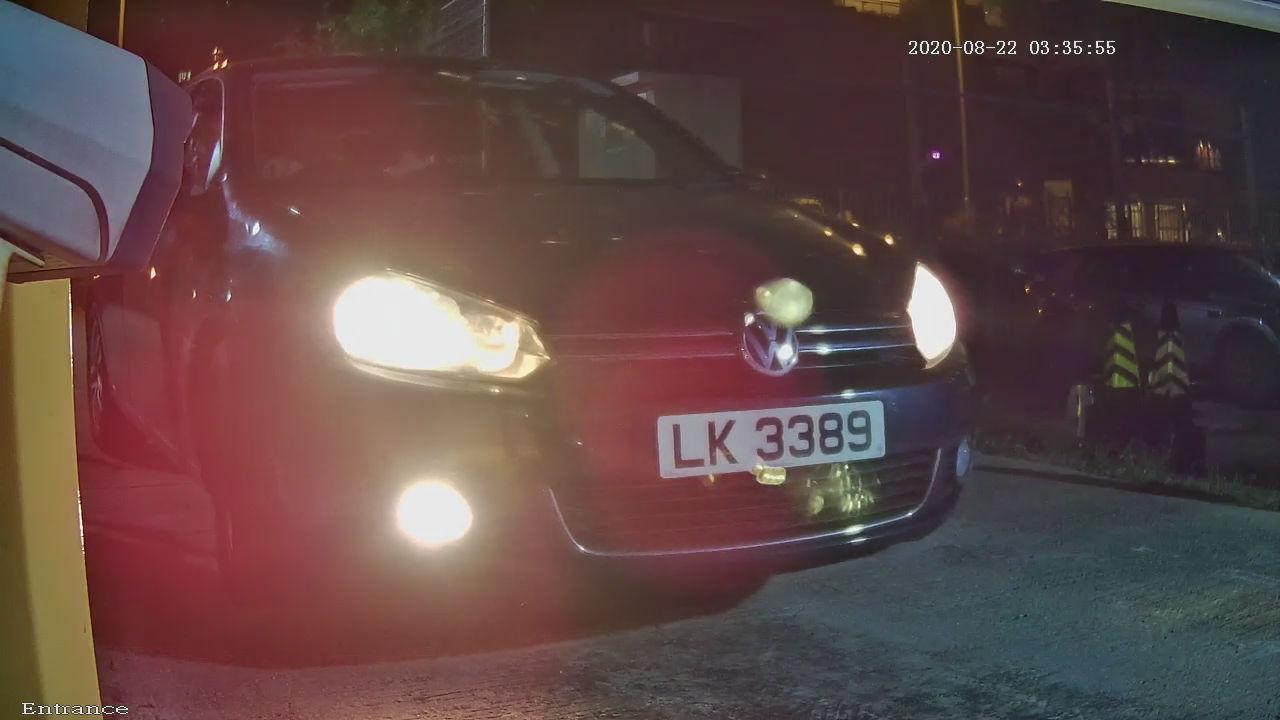Car: (46, 42, 1109, 647)
License Plate: (621, 384, 909, 512)
